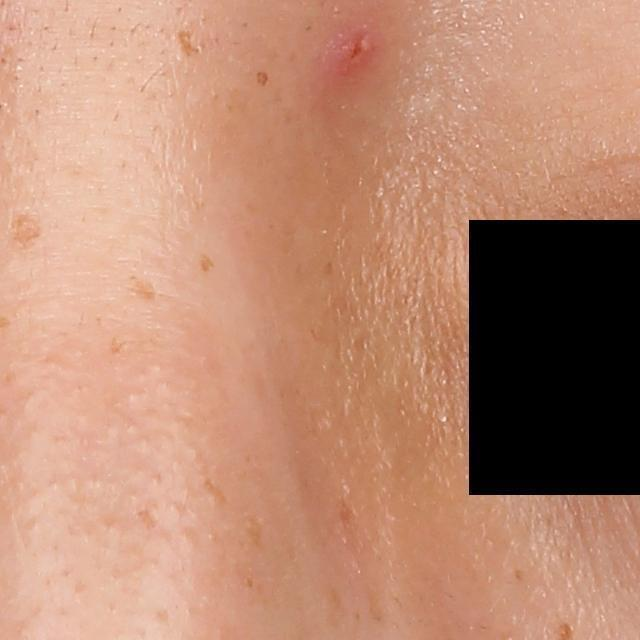atrophic_scar: (177, 30, 202, 57)
melasma: (234, 509, 269, 551), (198, 471, 237, 506), (8, 213, 39, 248), (333, 496, 361, 534), (130, 279, 159, 305)
papule: (333, 27, 382, 77)
